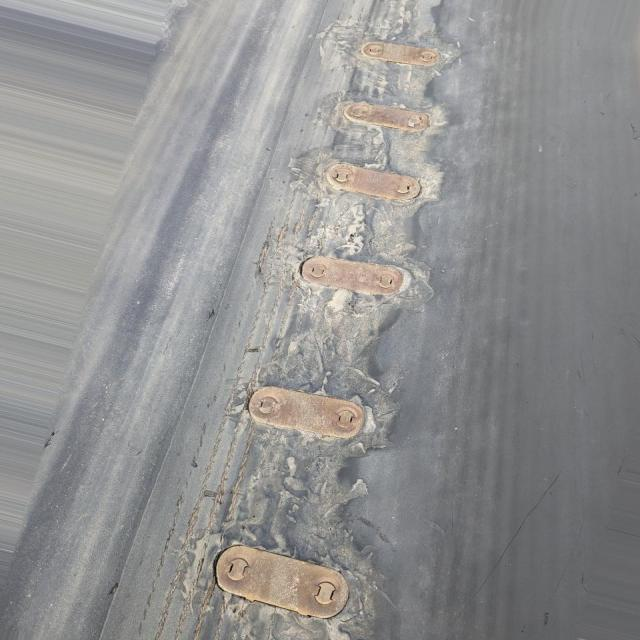patch work: (178, 0, 459, 640)
